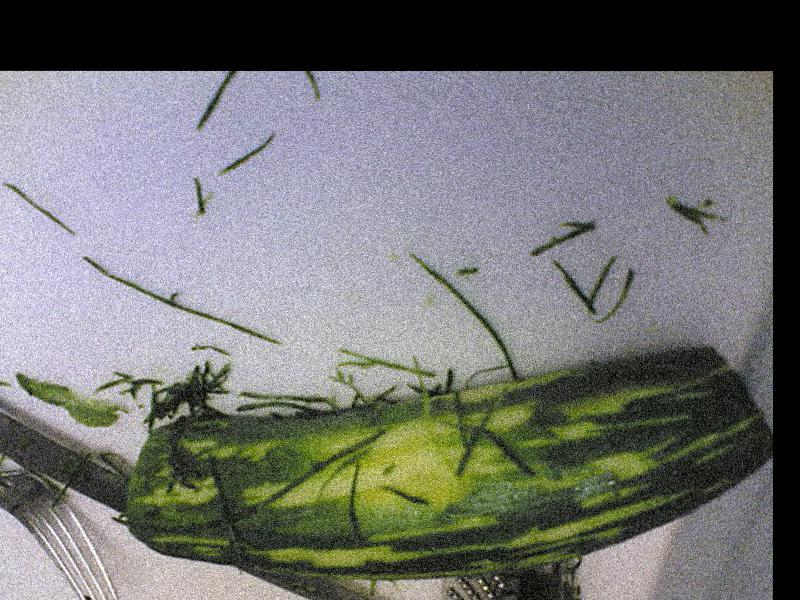Cucumber: (124, 345, 769, 579)
